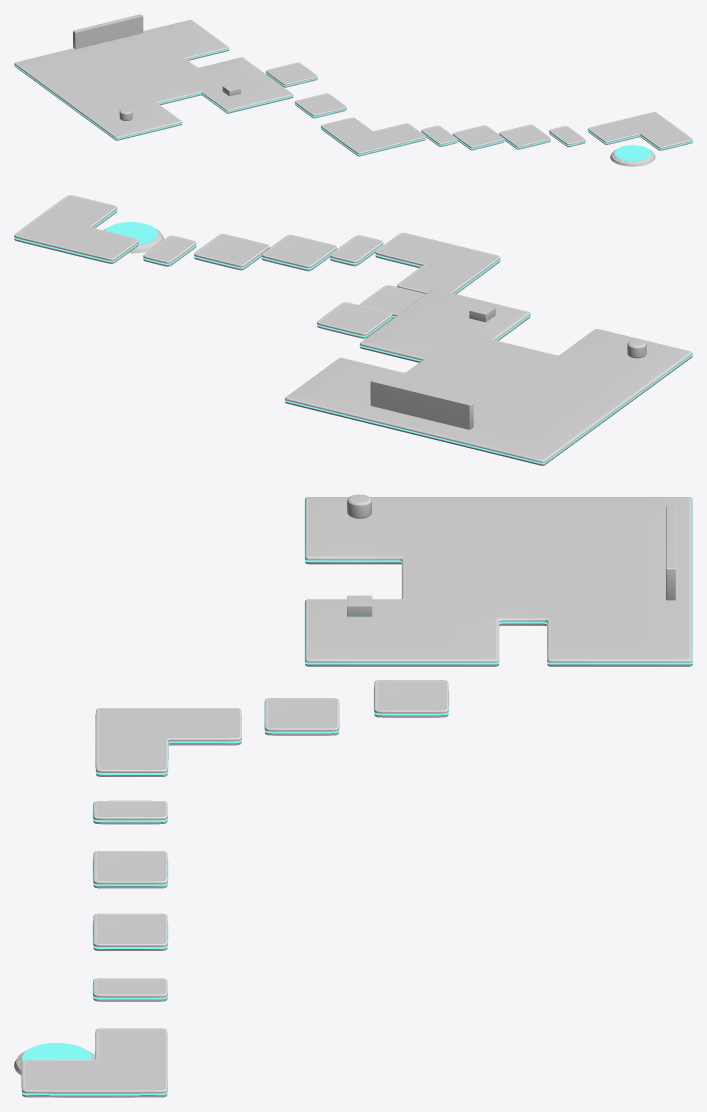
File: future_scene.glb
The picture shows the model from 3 angles, top to bottom: view 1: azimuth 30°, elevation 25°; view 2: azimuth 150°, elevation 25°; view 3: azimuth 270°, elevation 25°; orthographic projection. The views are drawn at different scales.
Visible parts, largest first — view 1: AsOne, 3_4Platform (×2), Platform (×4), LongPlatformSmall (×2), Cylinder.003; view 2: AsOne, 3_4Platform (×2), Platform (×4), LongPlatformSmall (×2), Cylinder.003; view 3: AsOne, 3_4Platform (×2), Platform (×4), LongPlatformSmall (×2), Cylinder.003.
Boxes of the visible parts, box(x1,y1,x2,y2) form: AsOne: box(14, 14, 293, 140); 3_4Platform (×2): box(320, 112, 692, 156); Platform (×4): box(265, 62, 550, 150); LongPlatformSmall (×2): box(421, 125, 585, 147); Cylinder.003: box(610, 145, 655, 166); AsOne: box(284, 289, 692, 465); 3_4Platform (×2): box(14, 195, 500, 294); Platform (×4): box(194, 234, 426, 338); LongPlatformSmall (×2): box(143, 235, 383, 266); Cylinder.003: box(103, 222, 163, 253); AsOne: box(304, 494, 692, 666); 3_4Platform (×2): box(21, 708, 241, 1097); Platform (×4): box(92, 680, 449, 950); LongPlatformSmall (×2): box(92, 800, 167, 1001); Cylinder.003: box(14, 1043, 94, 1075).
Bounding box in the file's own units: 101 × 19.7 × 62.26.
